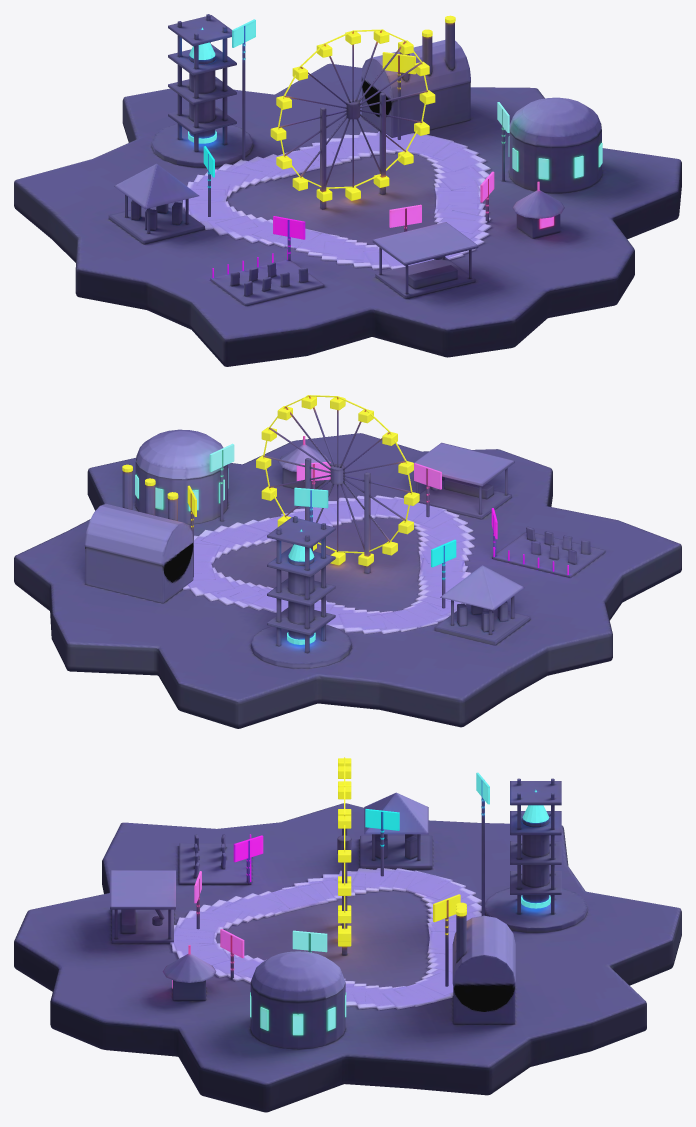
The model's file is Park.glb.
3 renders of one model, top to bottom at view 1: azimuth 30°, elevation 25°; view 2: azimuth 150°, elevation 25°; view 3: azimuth 270°, elevation 25°, orthographic. The views are drawn at different scales.
Visible parts, largest first — view 1: Park; view 2: Park; view 3: Park.
Boxes of the visible parts, box(x1,y1,x2,y2) form: Park: box(14, 14, 681, 366); Park: box(14, 395, 681, 728); Park: box(14, 757, 681, 1112).
Size of what is drawn, in the model's own units: 64.57 by 21.76 by 64.61.
Materials: 1 (1 with a texture image).
